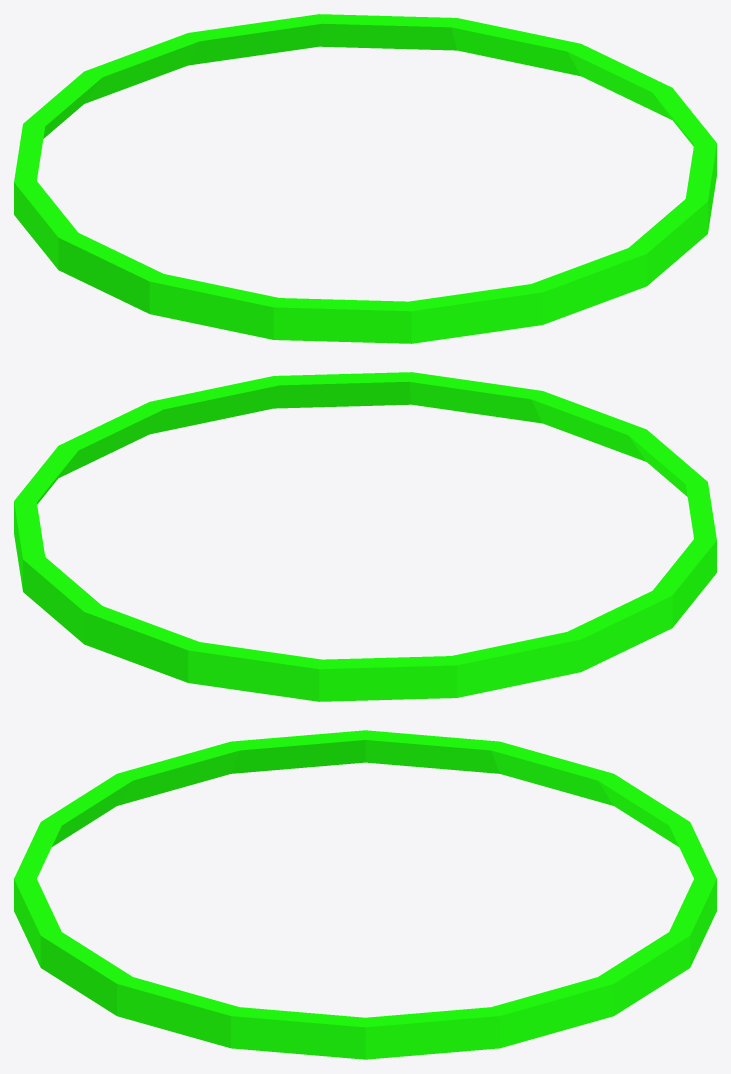
File: Ring_Green_Light.glb
3 views of the same model, one above another, from view 1: azimuth 30°, elevation 25°; view 2: azimuth 150°, elevation 25°; view 3: azimuth 270°, elevation 25° (orthographic).
Parts seen in each view (by area): view 1: Cylinder.009; view 2: Cylinder.009; view 3: Cylinder.009.
Boxes of the visible parts, left/top/right/bottom form: Cylinder.009: left=14, top=14, right=716, bottom=343; Cylinder.009: left=14, top=372, right=716, bottom=701; Cylinder.009: left=14, top=730, right=716, bottom=1059.
Size of what is drawn, in the model's own units: 2 by 0.1015 by 2.
1 material, 1 textured.
